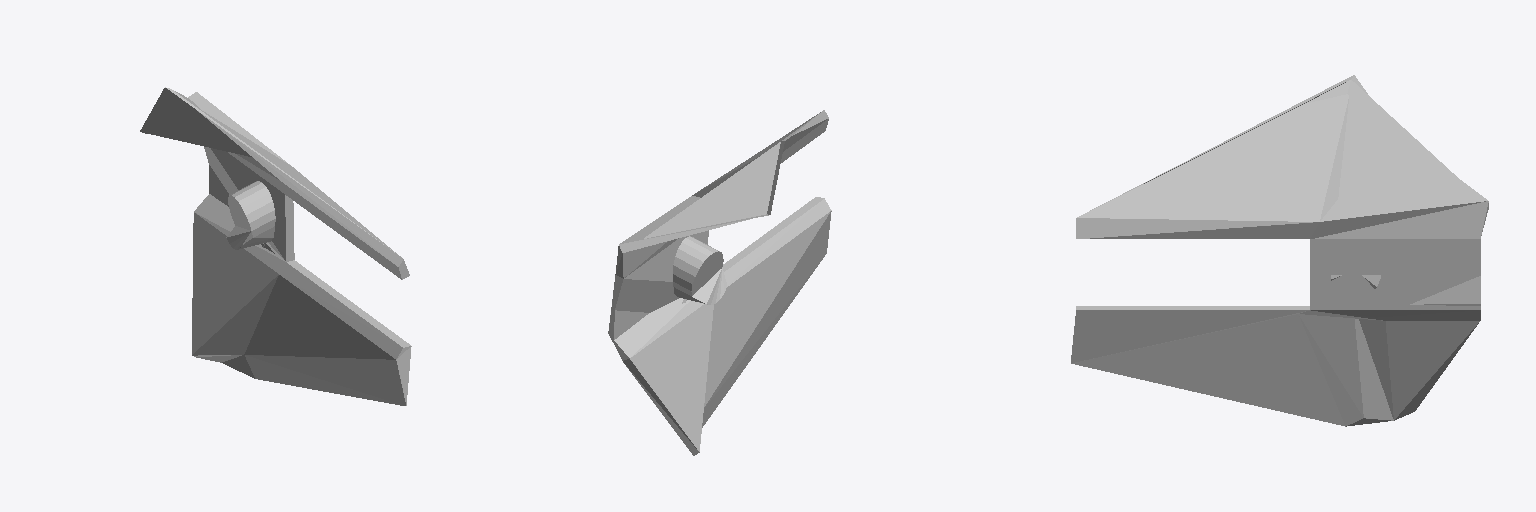
The model's file is vragfifth1.obj.
3 views of the same model, side by side, from view 1: azimuth 30°, elevation 25°; view 2: azimuth 150°, elevation 25°; view 3: azimuth 270°, elevation 25° (orthographic).
Visible parts, largest first — view 1: vrag; view 2: vrag; view 3: vrag.
Part boxes in pixels (x1,y1,x2,y2): vrag: (140,87,411,405); vrag: (608,110,831,455); vrag: (1071,75,1488,426).
Bounding box in the file's own units: 3.77 × 9.37 × 11.48.